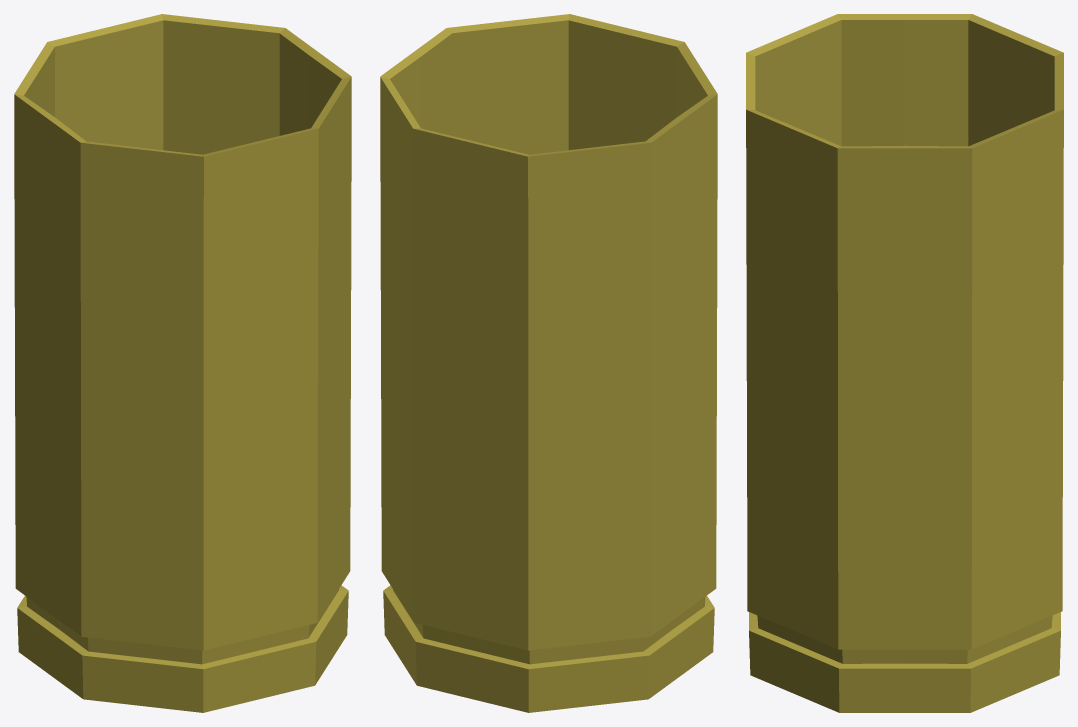
File: Shell_Pistol.fbx
3 renders of one model, left to right at view 1: azimuth 30°, elevation 25°; view 2: azimuth 150°, elevation 25°; view 3: azimuth 270°, elevation 25°, orthographic.
Visible parts, largest first — view 1: Shell; view 2: Shell; view 3: Shell.
Part boxes in pixels (x1=…): Shell: x1=14, y1=14, x2=351, y2=712; Shell: x1=380, y1=14, x2=717, y2=712; Shell: x1=746, y1=14, x2=1063, y2=712.
Bounding box in the file's own units: 0.0311 × 0.0612 × 0.0311.
